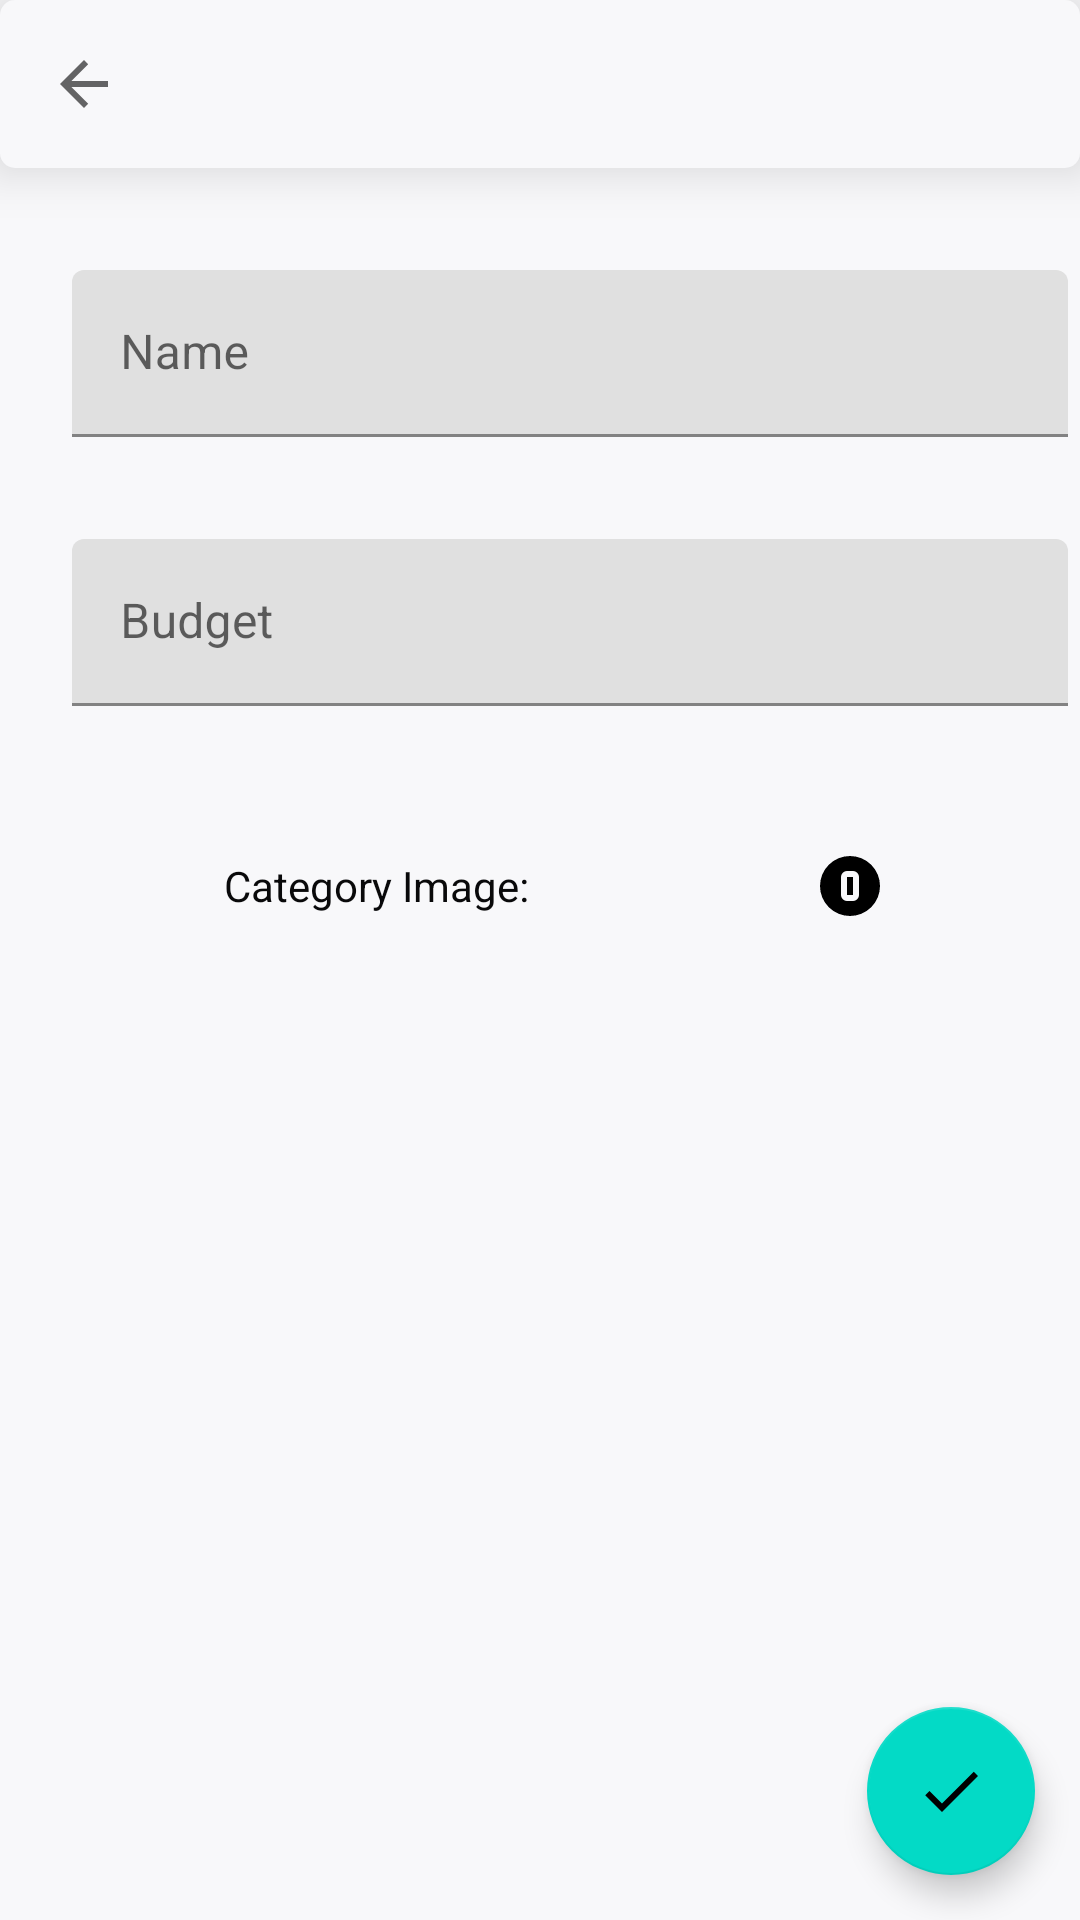

Icons on this 1080 x 1920 Android screen, each with its box as [x1, y1, x2, y2]:
category others: [820, 856, 880, 916]
